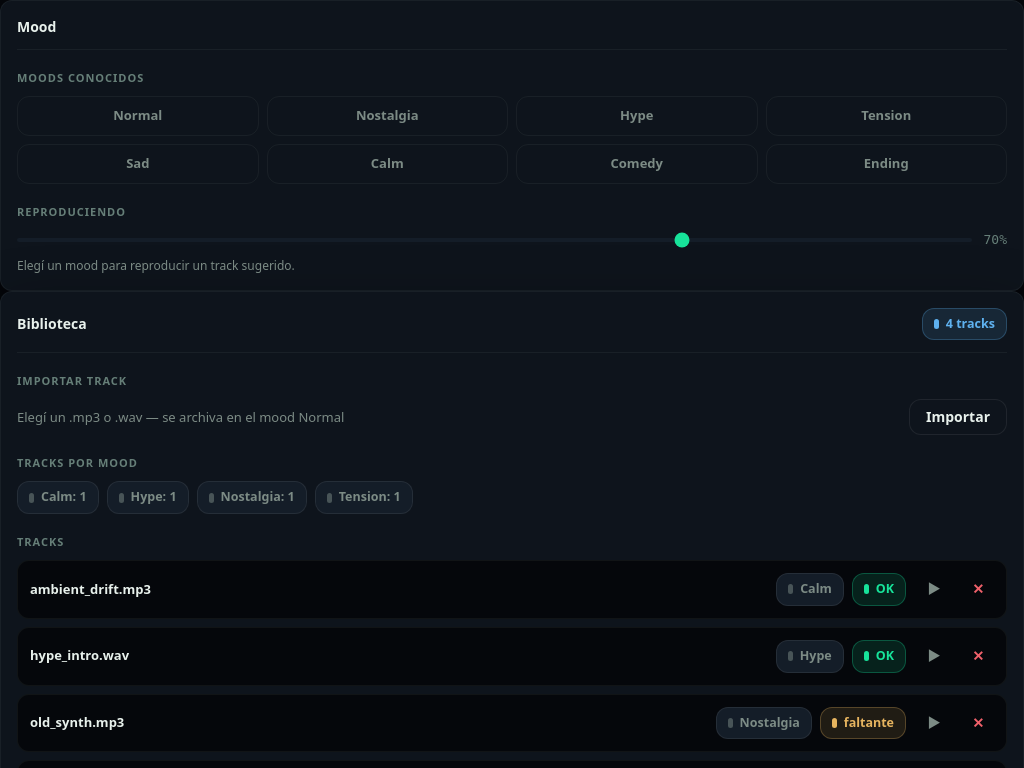
MusicPanel Importar is wired to the native dialog + POST /api/music/import › translates a 503 music_unavailable instead of printing it raw
Click the button "Importar" at (958, 417), box [909, 399, 1007, 435]
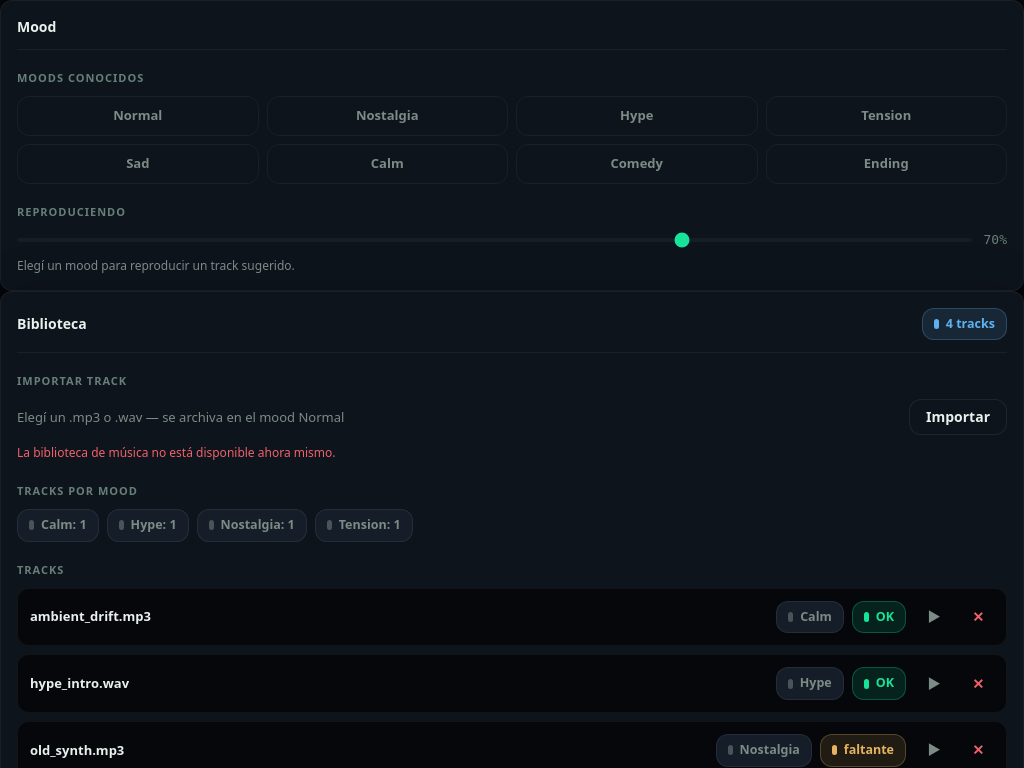
Result: the message reads "La biblioteca de música no está disponible ahora mismo." at [17, 444, 336, 461]
